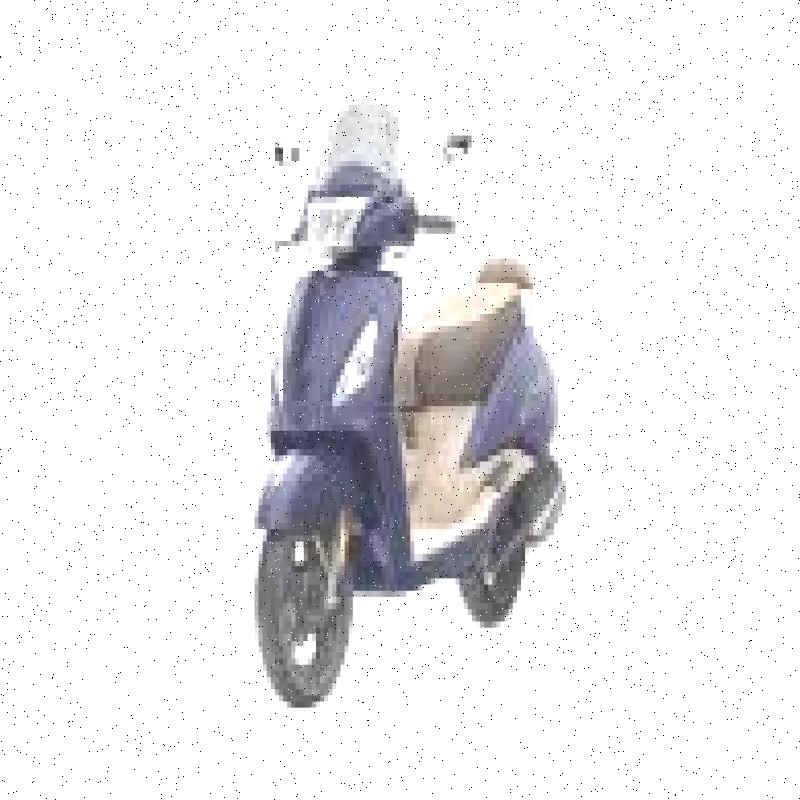bike: (215, 102, 585, 722)
